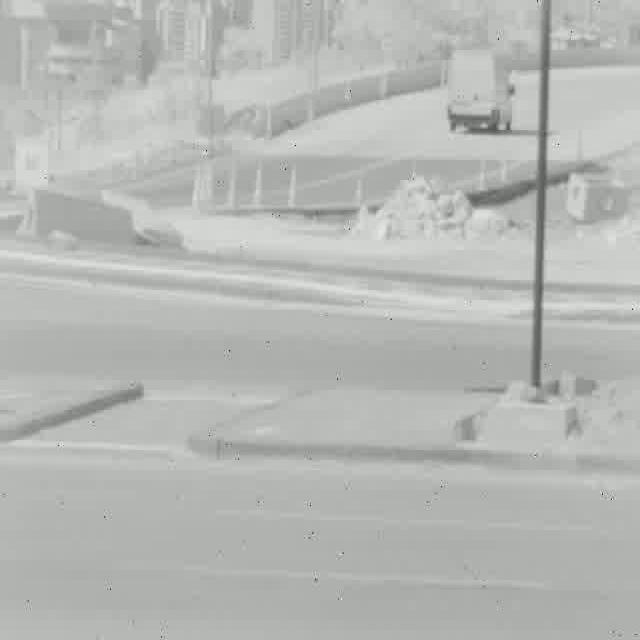Car: (448, 47, 514, 129)
